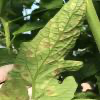Tomato mold leaf: (5, 1, 87, 99)
